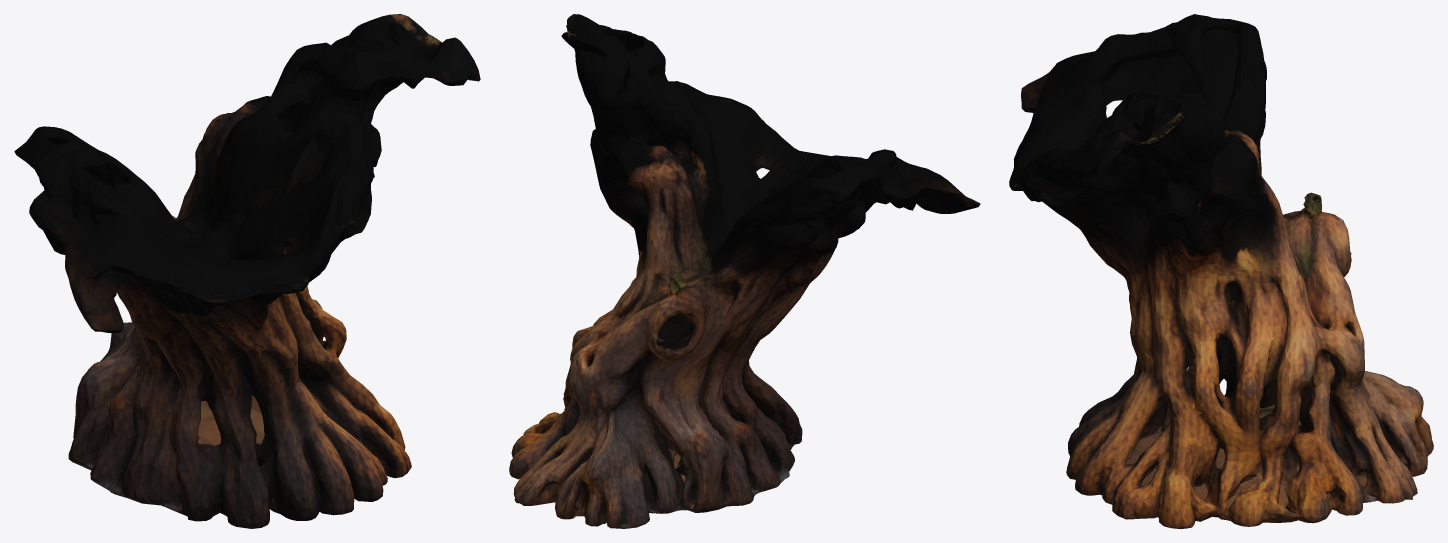
File: veg_olive__retry.glb
The picture shows the model from 3 angles, left to right: view 1: azimuth 30°, elevation 25°; view 2: azimuth 150°, elevation 25°; view 3: azimuth 270°, elevation 25°; orthographic projection. The views are drawn at different scales.
Parts seen in each view (by area): view 1: world; view 2: world; view 3: world.
Part boxes in pixels (x1,y1,x2,y2): world: [14, 14, 480, 528]; world: [509, 14, 980, 528]; world: [1009, 14, 1433, 528].
Size of the model in its own units: 0.9206 by 0.894 by 0.8257.
1 material, 1 textured.
